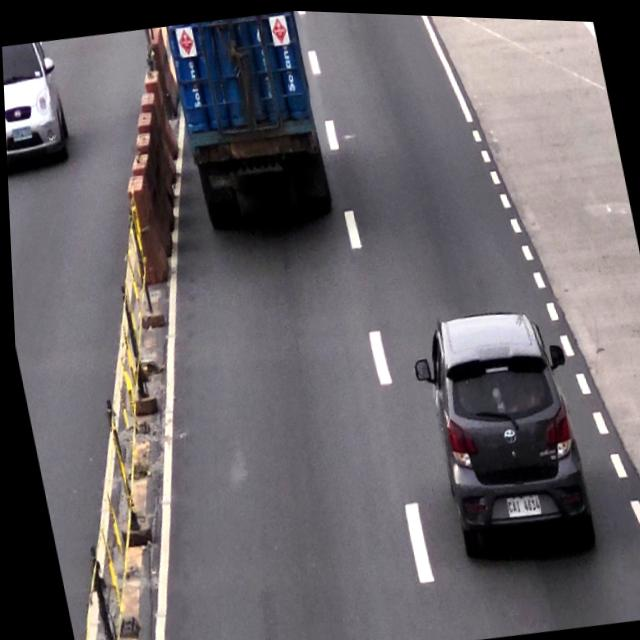Car: (418, 299, 590, 554)
License-Plate: (500, 486, 540, 518)
Truck: (168, 5, 332, 235)
